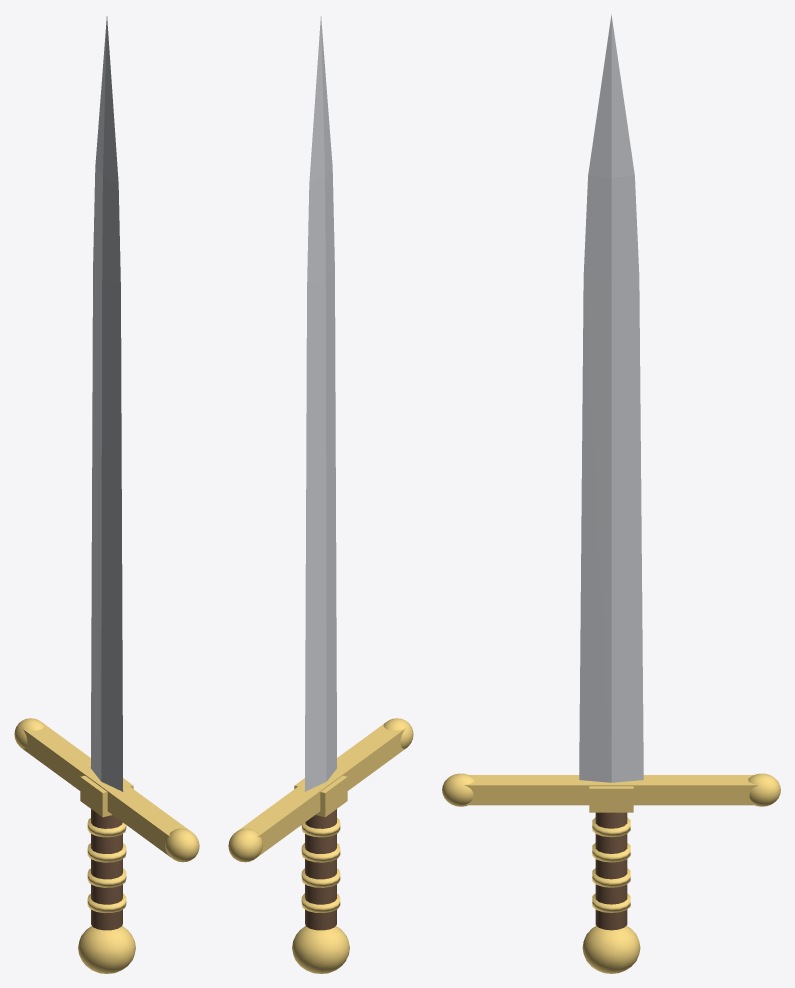
The model's file is SM_Paladin_Sword.glb.
The picture shows the model from 3 angles, left to right: view 1: azimuth 30°, elevation 25°; view 2: azimuth 150°, elevation 25°; view 3: azimuth 270°, elevation 25°; orthographic projection.
Parts seen in each view (by area): view 1: SM_Paladin_Sword; view 2: SM_Paladin_Sword; view 3: SM_Paladin_Sword.
Part boxes in pixels (x1=…): SM_Paladin_Sword: x1=14, y1=16, x2=199, y2=973; SM_Paladin_Sword: x1=228, y1=16, x2=413, y2=973; SM_Paladin_Sword: x1=442, y1=14, x2=780, y2=973.
Size of the model in its own units: 0.052 by 0.947 by 0.304.
